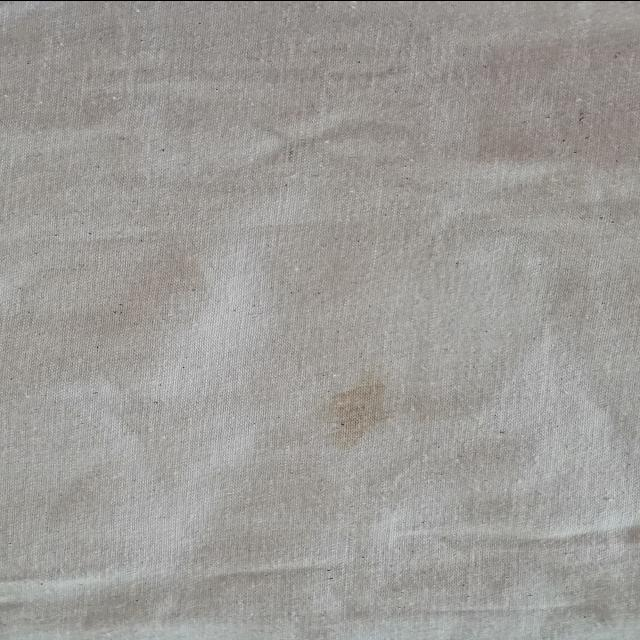taaaches: (296, 373, 406, 456)
